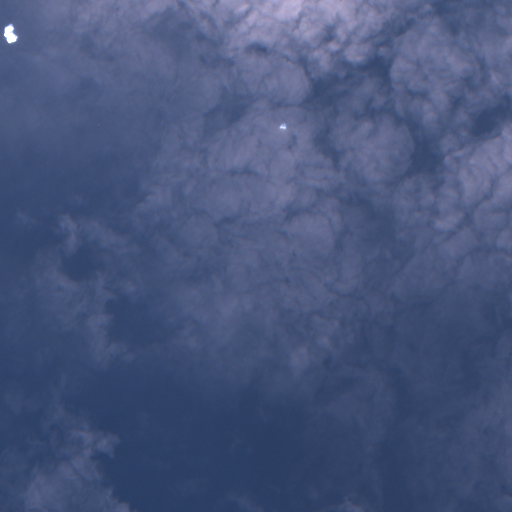Iceberg: (4, 24, 17, 43), (280, 123, 285, 128)
